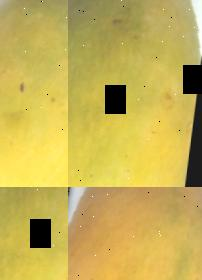PartiallyRipe: (68, 0, 202, 187), (0, 0, 68, 187), (0, 187, 68, 280)
Ripe: (68, 187, 202, 280)
